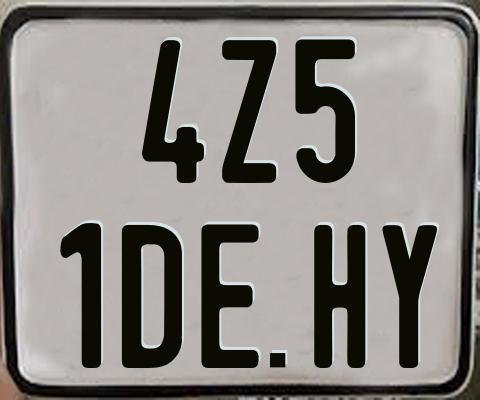1: (57, 221, 101, 369)
4: (141, 37, 207, 180)
5: (292, 38, 355, 182)
D: (122, 223, 187, 372)
E: (201, 224, 262, 373)
H: (314, 222, 365, 369)
Y: (379, 222, 438, 367)
Z: (221, 38, 279, 181)
